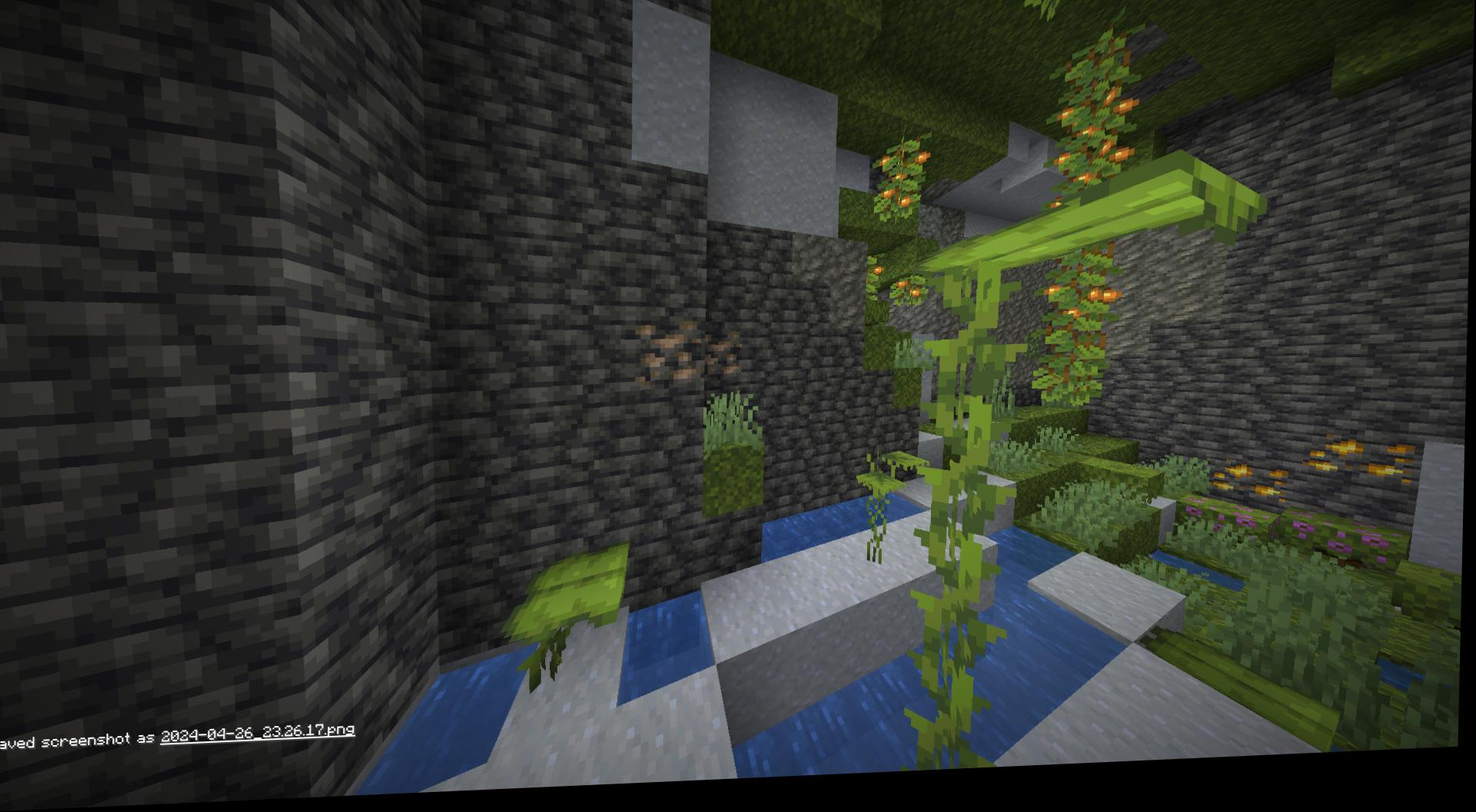gold ore: (1307, 438, 1416, 501), (1215, 464, 1292, 524)
iron ore: (634, 320, 703, 394), (700, 331, 743, 387)
